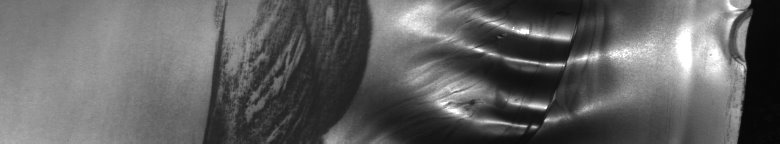ke: (206, 4, 620, 136)
